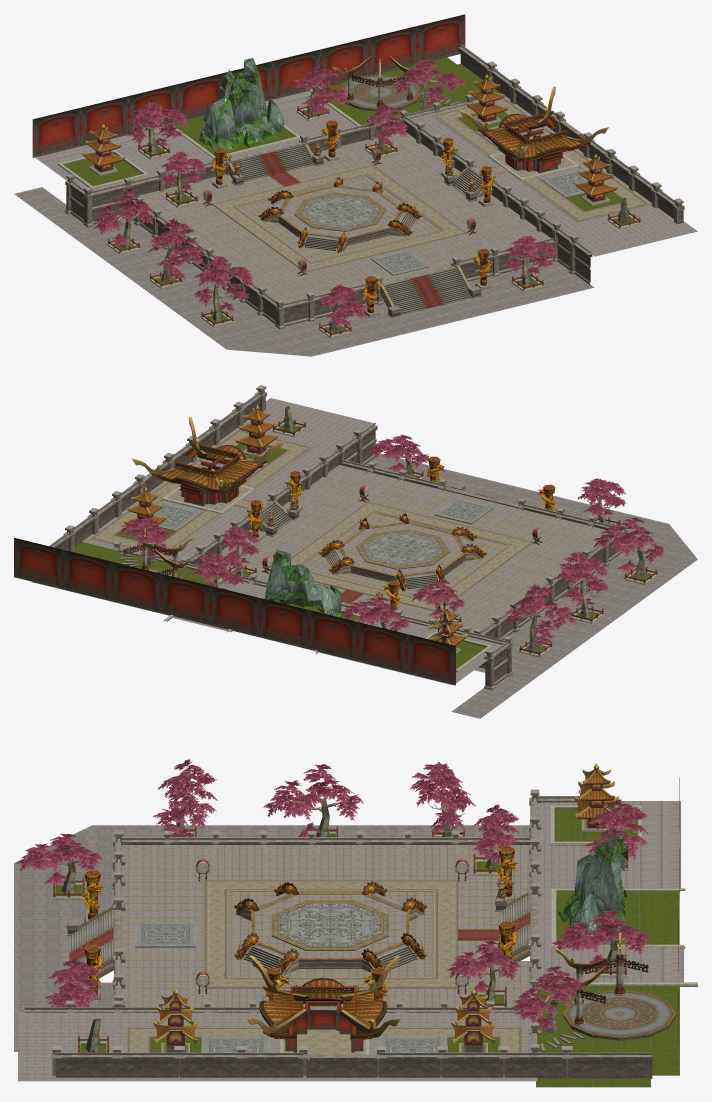
The model's file is LSSD.FBX.
3 renders of one model, top to bottom at view 1: azimuth 30°, elevation 25°; view 2: azimuth 150°, elevation 25°; view 3: azimuth 270°, elevation 25°, orthographic. The views are drawn at different scales.
Parts seen in each view (by area): view 1: Object423612, Object423602, Object423798, Object423799, Object99, Object423715, environment_stone_shanya_001_d, Object423650, Object43, Object423614, Object423768, Object423709 (+10 smaller); view 2: Object423612, Object423798, Object423602, Object423715, Object423650, Object43, Object423614, Object423709, environment_stone_shanya_001_d, Object423799, Object423768, Object423778 (+6 smaller); view 3: Object423612, Object99, Object423602, Object423778, Object423715, Object423799, Object423650, Object423614, Object43, environment_stone_shanya_001_d, Object423760, Object423709 (+8 smaller).
Boxes of the visible parts, bbox=[...] form: Object423612: bbox=[138, 119, 552, 305]; Object423602: bbox=[14, 187, 594, 356]; Object423798: bbox=[32, 14, 465, 157]; Object423799: bbox=[64, 57, 501, 227]; Object99: bbox=[35, 74, 460, 192]; Object423715: bbox=[410, 93, 697, 256]; environment_stone_shanya_001_d: bbox=[81, 56, 427, 184]; Object423650: bbox=[94, 188, 557, 326]; Object43: bbox=[443, 74, 617, 205]; Object423614: bbox=[165, 144, 466, 272]; Object423768: bbox=[129, 195, 555, 329]; Object423709: bbox=[432, 97, 649, 229]; Object423612: bbox=[205, 465, 611, 633]; Object423798: bbox=[14, 538, 455, 685]; Object423602: bbox=[365, 445, 697, 718]; Object423715: bbox=[82, 398, 373, 562]; Object423650: bbox=[368, 434, 664, 646]; Object43: bbox=[122, 405, 300, 538]; Object423614: bbox=[231, 501, 532, 623]; Object423709: bbox=[90, 422, 312, 555]; environment_stone_shanya_001_d: bbox=[141, 525, 467, 653]; Object423799: bbox=[32, 540, 512, 690]; Object423768: bbox=[342, 460, 627, 639]; Object423778: bbox=[49, 385, 266, 551]; Object423612: bbox=[121, 826, 530, 1008]; Object99: bbox=[500, 801, 683, 1051]; Object423602: bbox=[14, 782, 529, 1051]; Object423778: bbox=[51, 1046, 652, 1078]; Object423715: bbox=[18, 1009, 537, 1081]; Object423799: bbox=[495, 789, 679, 1087]; Object423650: bbox=[16, 759, 475, 1007]; Object423614: bbox=[204, 860, 507, 1007]; Object43: bbox=[153, 955, 496, 1052]; environment_stone_shanya_001_d: bbox=[498, 763, 628, 1026]; Object423760: bbox=[496, 798, 652, 1031]; Object423709: bbox=[77, 1008, 523, 1060].
Bounding box in the file's own units: 45.19 × 9.66 × 42.52.
